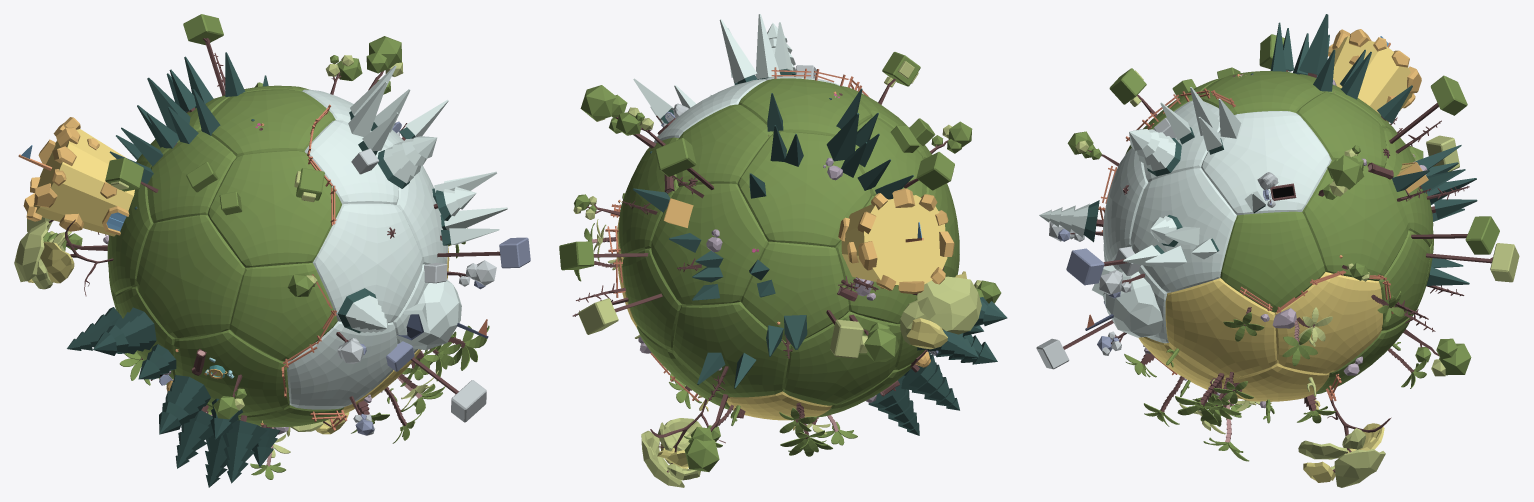
Rendered from PLANET_ALL.fbx.
3 views of the same model, side by side, from view 1: azimuth 30°, elevation 25°; view 2: azimuth 150°, elevation 25°; view 3: azimuth 270°, elevation 25° (orthographic). The views are drawn at different scales.
Visible parts, largest first — view 1: PLANET_BASE, Castle, GreenTreeCarla1, Igloo, JOFirTree19, JOFirTree16, JOFirTree08, JOFirTree06, JOFirTree22, JOFirTree21, BallTree08, CubeSnowTallTree02 (+27 smaller); view 2: PLANET_BASE, Castle, GreenTreeCarla1, GreenTreeCarla, JOFirTree21, BallTree10, BallTree08, JOFirTree23, CubeTallTree05, BallTree12, CubeTallTree06, CubeTallTree07 (+21 smaller); view 3: PLANET_BASE, Castle, GreenTreeCarla, Igloo, JOFirTree08, BallTree10, JOFirTree06, CubeTallTree07, duo_palm3, CubeTallTree05, CubeTallTree06, BallTree08 (+19 smaller).
Boxes of the visible parts, <box> form: PLANET_BASE: <box>107,85,449,427</box>; Castle: <box>23,117,134,236</box>; GreenTreeCarla1: <box>14,219,113,296</box>; Igloo: <box>396,279,461,350</box>; JOFirTree19: <box>93,307,156,355</box>; JOFirTree16: <box>159,375,210,434</box>; JOFirTree08: <box>377,136,437,188</box>; JOFirTree06: <box>337,288,387,333</box>; JOFirTree22: <box>222,415,267,483</box>; JOFirTree21: <box>175,405,213,468</box>; BallTree08: <box>366,36,403,94</box>; CubeSnowTallTree02: <box>411,357,486,422</box>; PLANET_BASE: <box>616,76,959,420</box>; Castle: <box>838,188,954,293</box>; GreenTreeCarla1: <box>900,266,981,349</box>; GreenTreeCarla: <box>641,399,725,487</box>; JOFirTree21: <box>901,354,959,410</box>; BallTree10: <box>684,394,728,471</box>; BallTree08: <box>580,85,656,148</box>; JOFirTree23: <box>868,376,919,435</box>; CubeTallTree05: <box>655,138,714,189</box>; BallTree12: <box>849,314,898,361</box>; CubeTallTree06: <box>578,293,662,334</box>; CubeTallTree07: <box>559,241,648,270</box>; PLANET_BASE: <box>1103,71,1433,401</box>; Castle: <box>1328,29,1421,122</box>; GreenTreeCarla: <box>1298,390,1391,487</box>; Igloo: <box>1092,265,1162,337</box>; JOFirTree08: <box>1129,129,1181,176</box>; BallTree10: <box>1403,329,1471,376</box>; JOFirTree06: <box>1039,200,1103,242</box>; CubeTallTree07: <box>1411,216,1499,254</box>; duo_palm3: <box>1282,307,1332,366</box>; CubeTallTree05: <box>1389,75,1467,143</box>; CubeTallTree06: <box>1426,243,1519,282</box>; BallTree08: <box>1318,155,1364,199</box>.
Bounding box in the file's own units: 4467 × 4233 × 4677.
